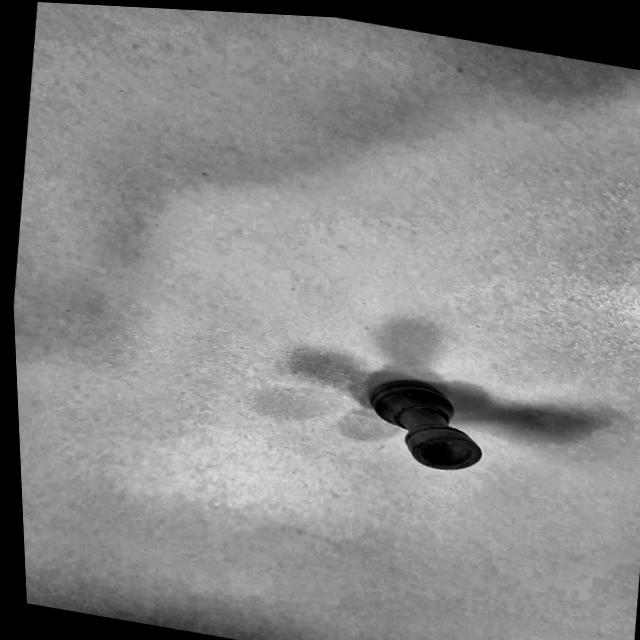black-rook: (329, 358, 521, 492)
